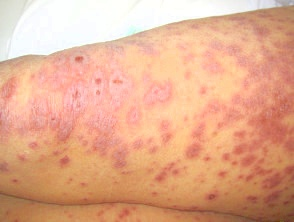SJS-TEN: (0, 27, 196, 201), (161, 6, 294, 210)
